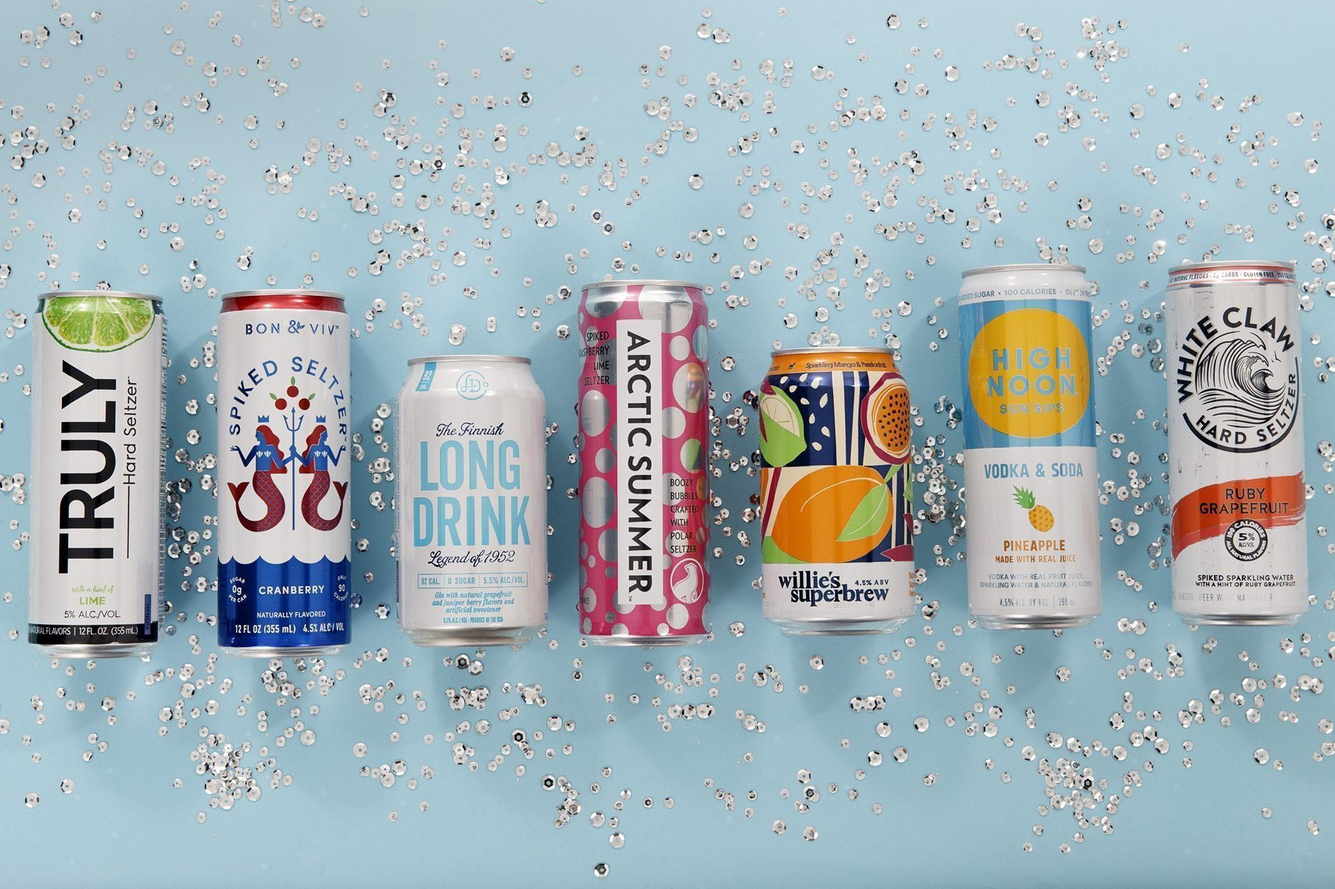tin can: (1159, 258, 1326, 628), (953, 256, 1109, 634), (20, 289, 174, 666), (209, 284, 358, 664), (571, 273, 718, 648), (750, 329, 922, 638), (388, 347, 552, 649)
